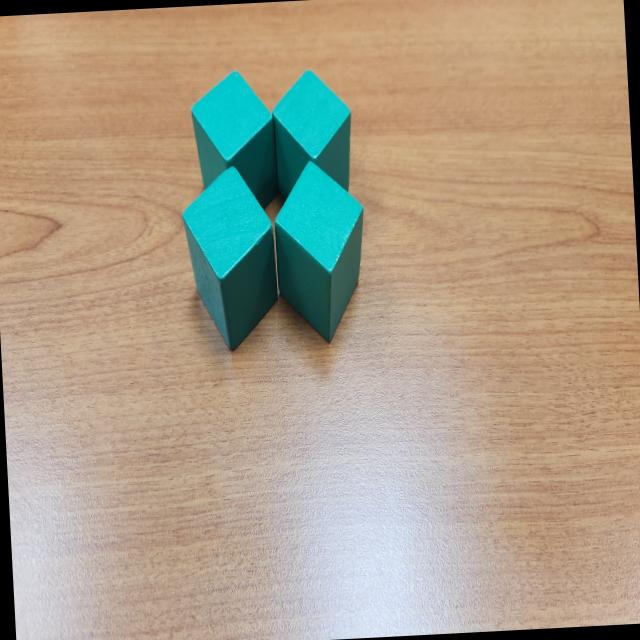green: (180, 165, 280, 355), (271, 158, 371, 344), (190, 68, 278, 218), (270, 68, 357, 209)
